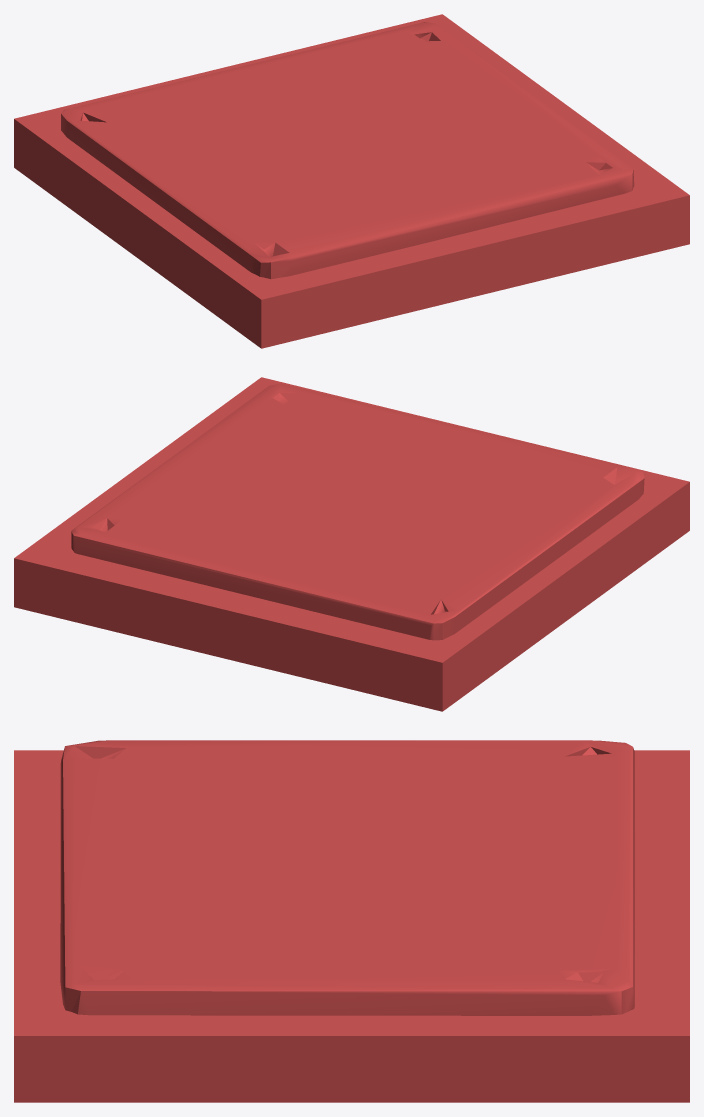
File: Final_ComplexWall_1x1_01.FBX
3 views of the same model, one above another, from view 1: azimuth 30°, elevation 25°; view 2: azimuth 150°, elevation 25°; view 3: azimuth 270°, elevation 25° (orthographic). The views are drawn at different scales.
Visible parts, largest first — view 1: Final_ComplexWall_1x1_01; view 2: Final_ComplexWall_1x1_01; view 3: Final_ComplexWall_1x1_01.
Part boxes in pixels (x1,y1,x2,y2): Final_ComplexWall_1x1_01: (14, 14, 689, 348); Final_ComplexWall_1x1_01: (14, 377, 689, 711); Final_ComplexWall_1x1_01: (14, 740, 689, 1102).
Size of the model in its own units: 200 by 200 by 30.05.
